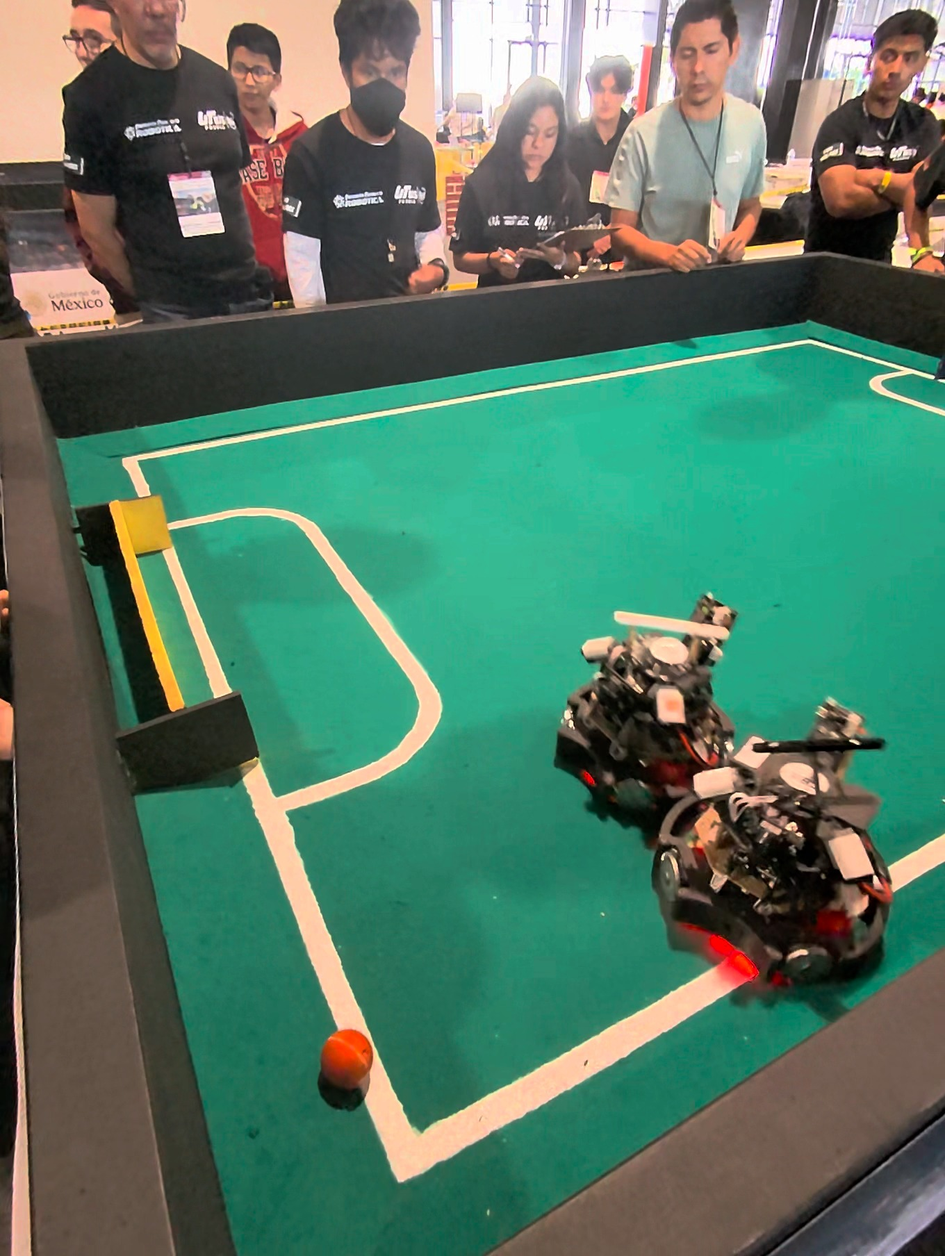Robot: (647, 740, 902, 1007), (545, 581, 743, 845)
pelota: (320, 1031, 375, 1110)
